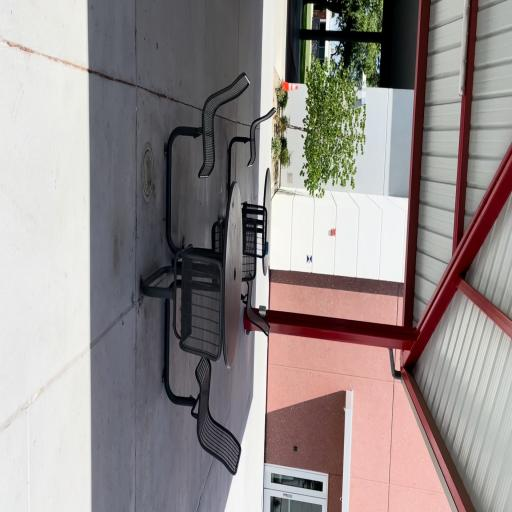target9: (306, 254, 312, 264)
